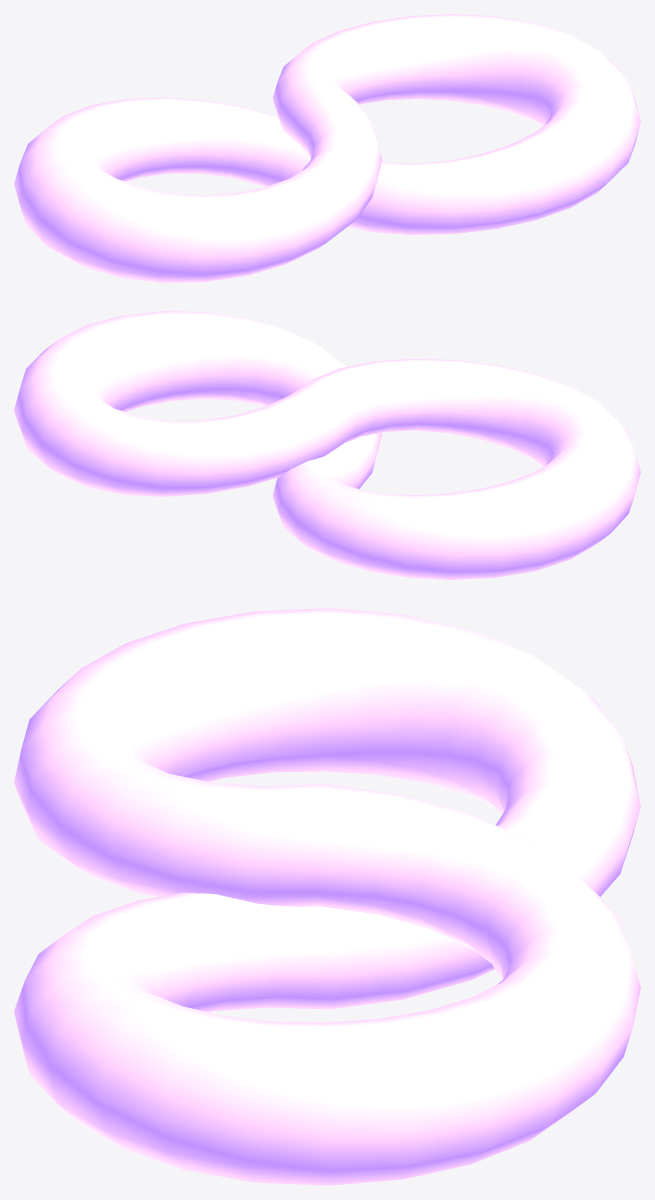
The model's file is inifinty.glb.
The picture shows the model from 3 angles, top to bottom: view 1: azimuth 30°, elevation 25°; view 2: azimuth 150°, elevation 25°; view 3: azimuth 270°, elevation 25°; orthographic projection. The views are drawn at different scales.
Parts seen in each view (by area): view 1: Infinity Symbol; view 2: Infinity Symbol; view 3: Infinity Symbol.
Boxes of the visible parts, left/top/right/bottom form: Infinity Symbol: left=14, top=14, right=640, bottom=282; Infinity Symbol: left=14, top=311, right=640, bottom=579; Infinity Symbol: left=14, top=608, right=640, bottom=1185.
Size of the model in its own units: 4.67 by 0.9631 by 2.56.
